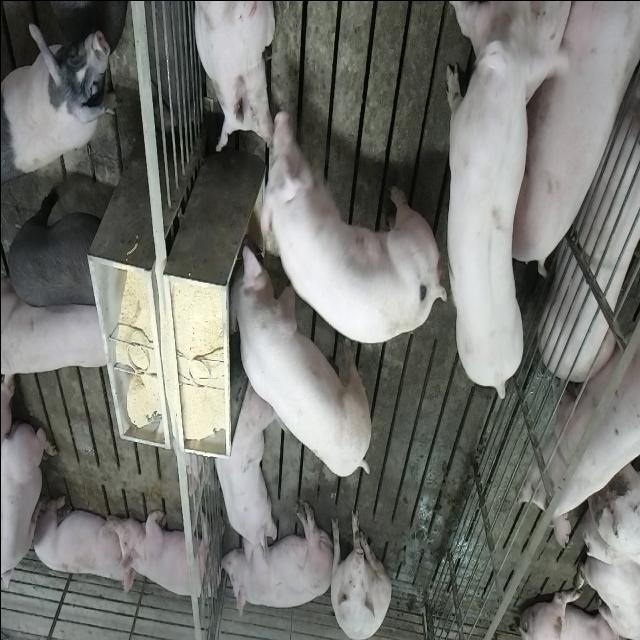Feeding: (258, 103, 444, 344), (219, 236, 368, 478)
Lateral_lying: (541, 29, 640, 378), (218, 499, 334, 620)
Sitting: (328, 505, 390, 639)
Standing: (441, 8, 548, 402), (519, 293, 640, 545), (2, 23, 112, 176), (2, 172, 110, 310), (2, 274, 116, 372)
Sternal_lying: (191, 1, 278, 152), (209, 381, 274, 567), (3, 404, 56, 604), (29, 491, 131, 590), (116, 506, 215, 604)
